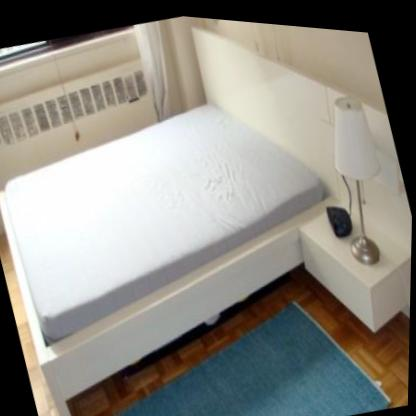Bed: (0, 29, 402, 416)
